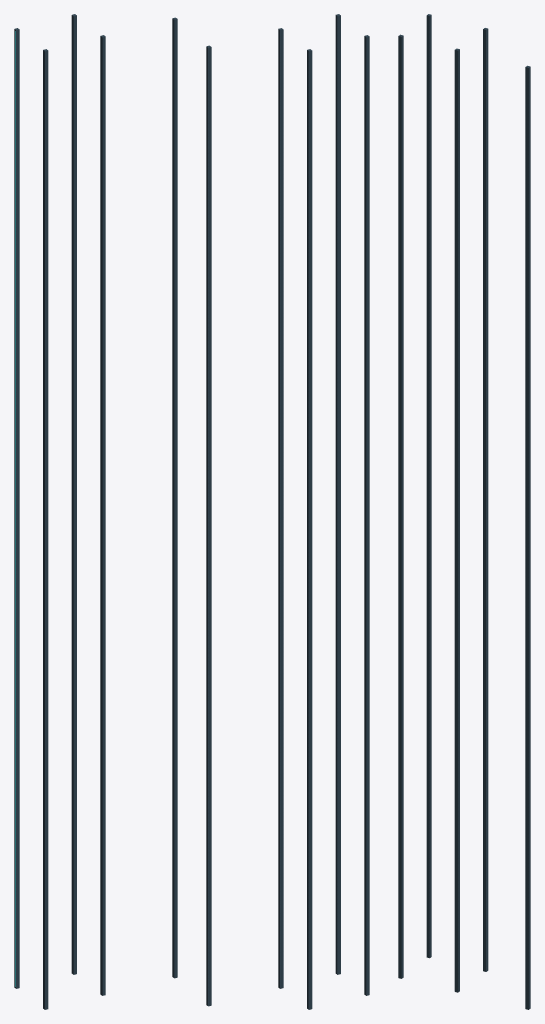
Rendered from public-terrace-frame.glb.
3 renders of one model, left to right at view 1: azimuth 30°, elevation 25°; view 2: azimuth 210°, elevation 25°; view 3: azimuth 330°, elevation 25°, orthographic.
Parts seen in each view (by area): view 1: public-terrace-frame; view 2: public-terrace-frame; view 3: public-terrace-frame.
Part boxes in pixels (bbox=[...]): public-terrace-frame: bbox=[14, 14, 177, 1009]; public-terrace-frame: bbox=[206, 14, 369, 1009]; public-terrace-frame: bbox=[398, 14, 530, 1009].
Size of the model in its own units: 19.21 by 132 by 7.7.
3 materials, 1 textured.
